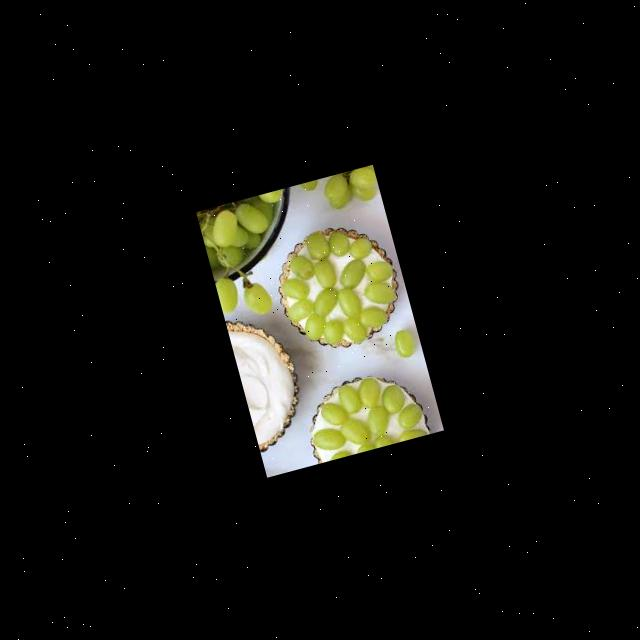grape: (266, 212, 411, 360), (299, 364, 430, 462)
